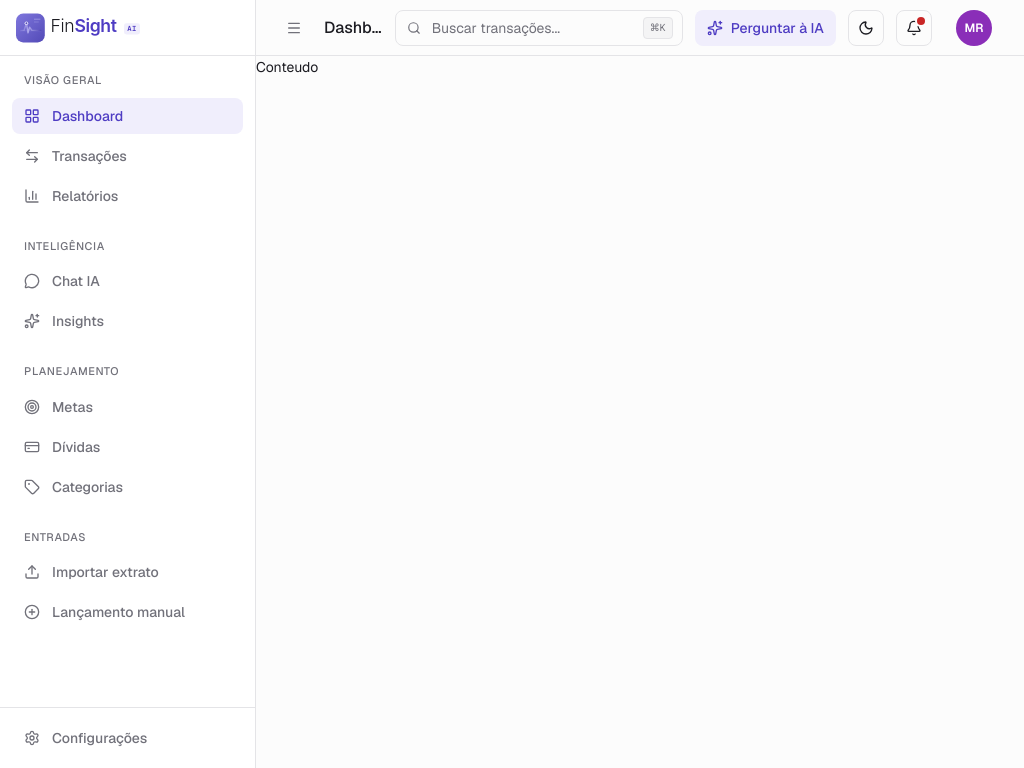
AppShell › toggles from expanded to compact sidebar on desktop
Click the button named "Alternar menu": (294, 28) [276, 10, 312, 46]
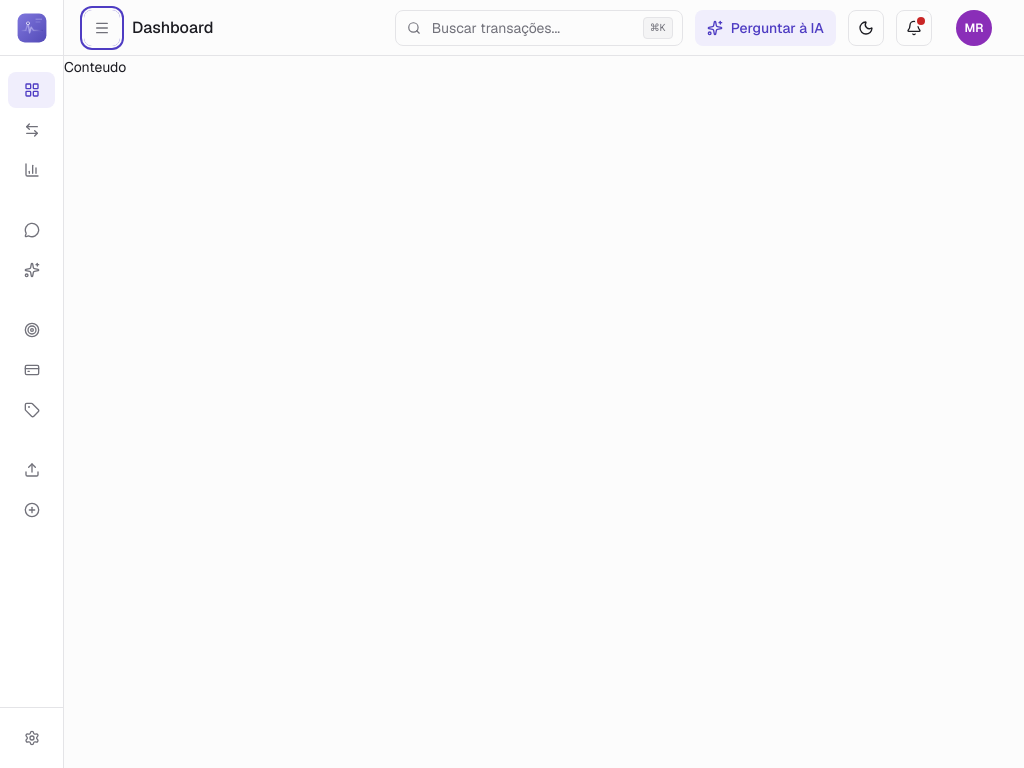
Check: the link named "Configurações" is shown, box [24, 730, 40, 746]
Check: the text "VISÃO GERAL" is gone
